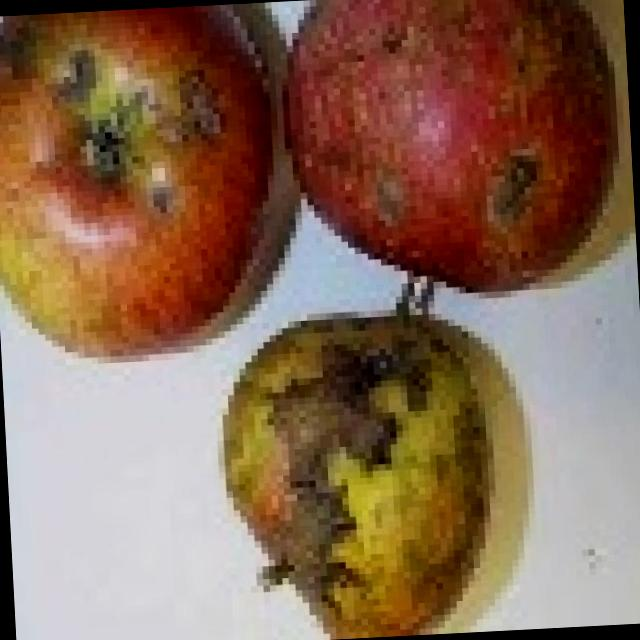Apple: (272, 0, 626, 309), (218, 310, 535, 640), (0, 3, 282, 372)
